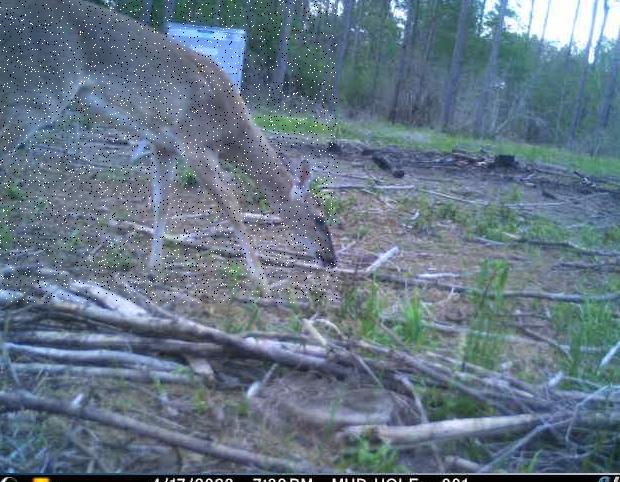Deer: (0, 0, 338, 303)
